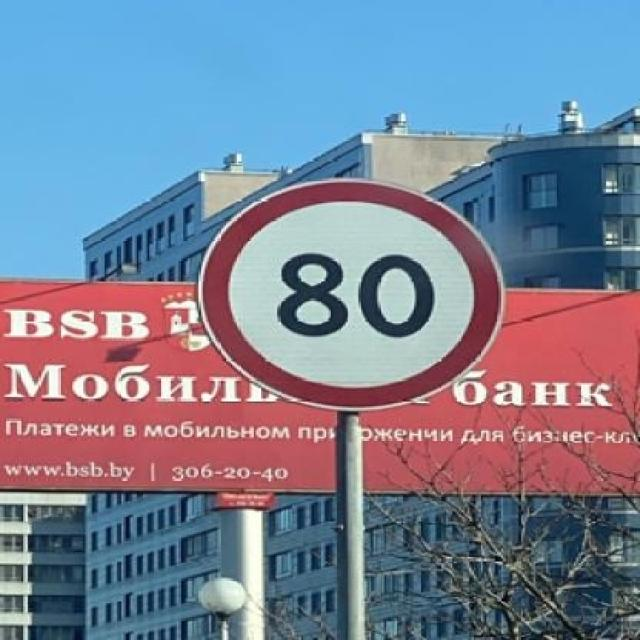forb_speed_over_80: (202, 180, 503, 406)
